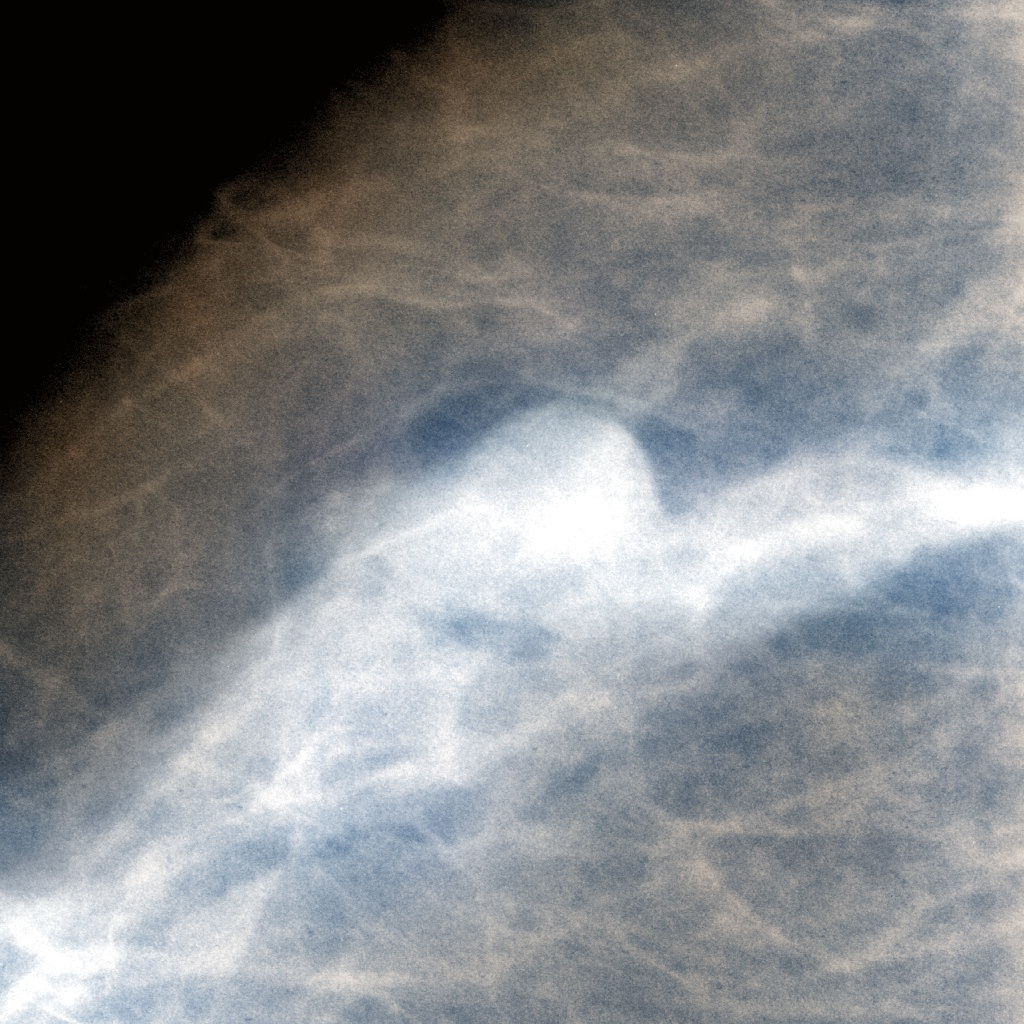tumor: (360, 379, 664, 645)
